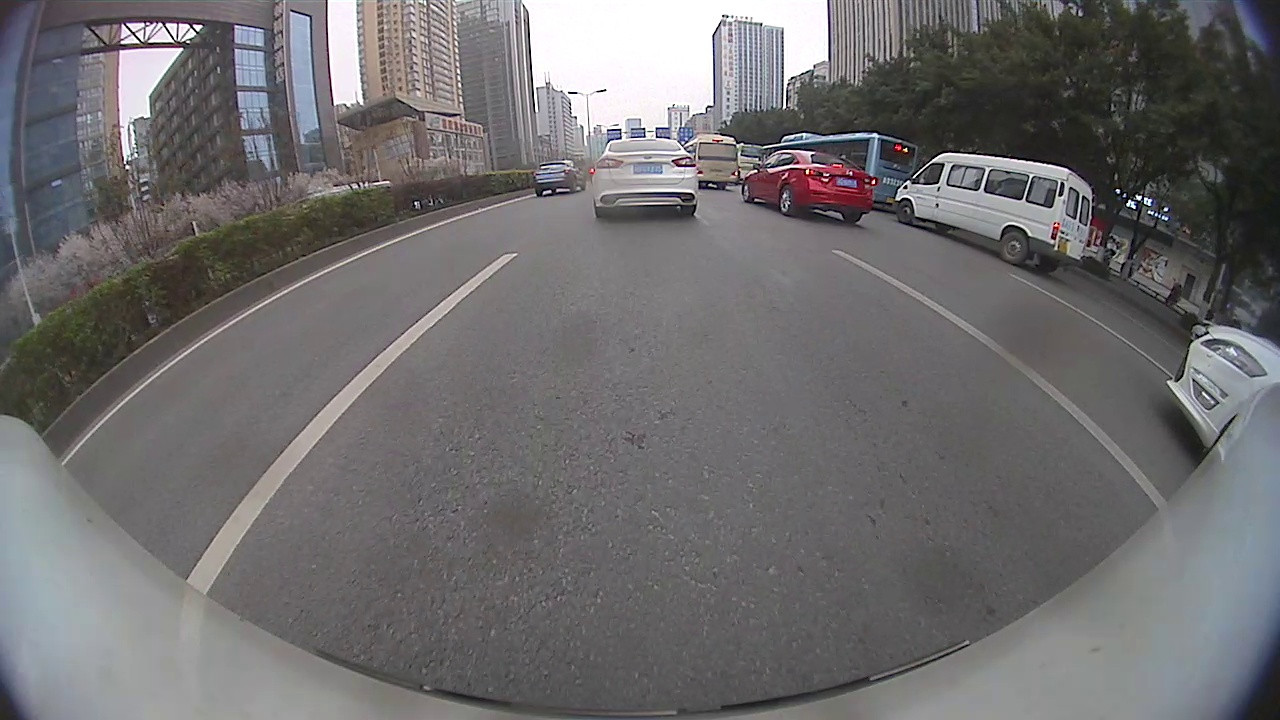bus: (765, 131, 921, 203), (683, 136, 741, 192)
car: (892, 152, 1091, 271), (1161, 324, 1278, 452), (744, 149, 876, 226), (591, 137, 698, 218), (532, 159, 585, 197), (1190, 318, 1215, 341)
front: (895, 198, 915, 224), (739, 177, 753, 207)
rear: (998, 228, 1029, 266), (778, 187, 794, 215)
